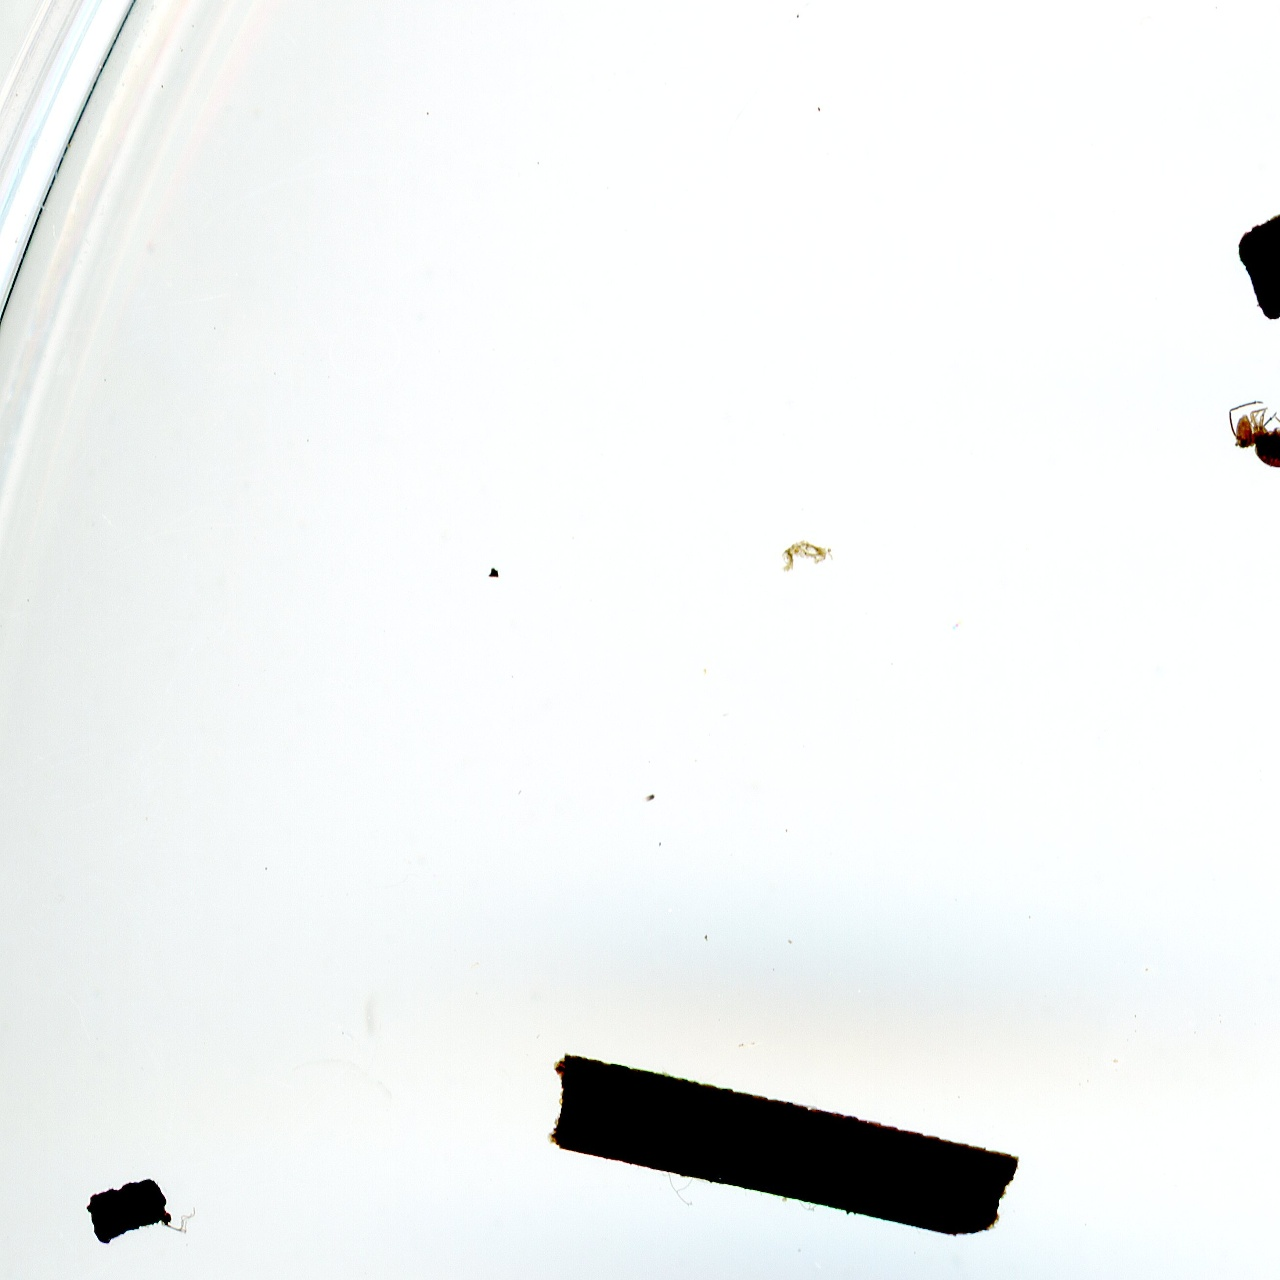arthropod: (1208, 389, 1280, 482)
